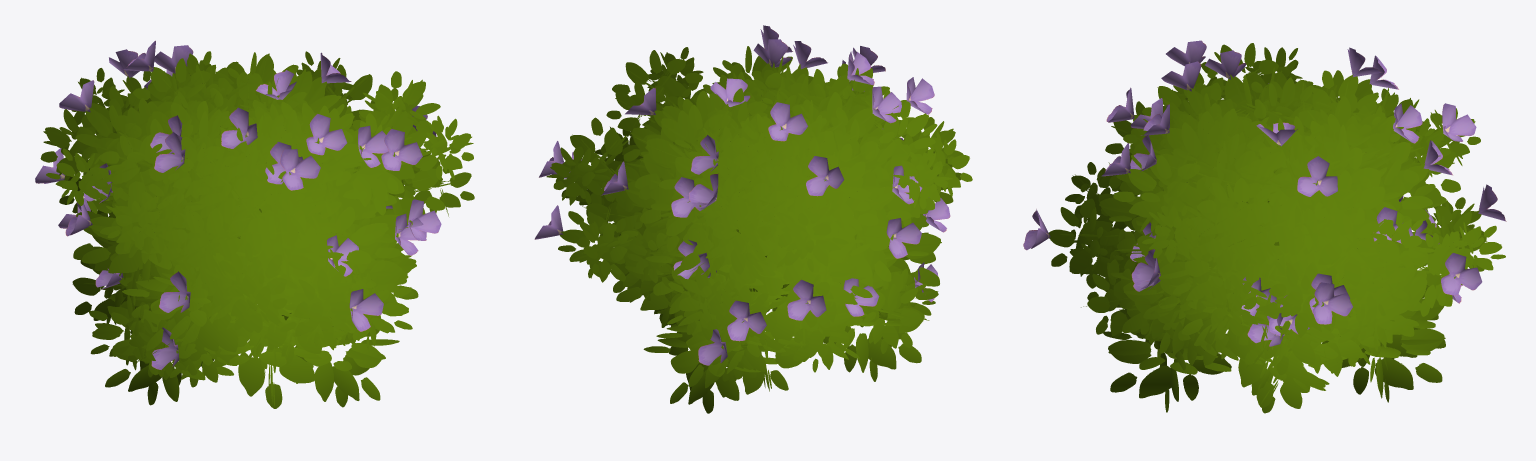
The model's file is Bush_Common_Flowers.glb.
The picture shows the model from 3 angles, left to right: view 1: azimuth 30°, elevation 25°; view 2: azimuth 150°, elevation 25°; view 3: azimuth 270°, elevation 25°; orthographic projection. The views are drawn at different scales.
Parts seen in each view (by area): view 1: Bush_Common_Flowers; view 2: Bush_Common_Flowers; view 3: Bush_Common_Flowers.
Part boxes in pixels (box(x1,y1,x2,y2)): Bush_Common_Flowers: box(35, 40, 474, 408); Bush_Common_Flowers: box(534, 25, 972, 413); Bush_Common_Flowers: box(1023, 40, 1506, 413).
Size of the model in its own units: 1.91 by 1.58 by 1.97.
Materials: 2 (2 with a texture image).
